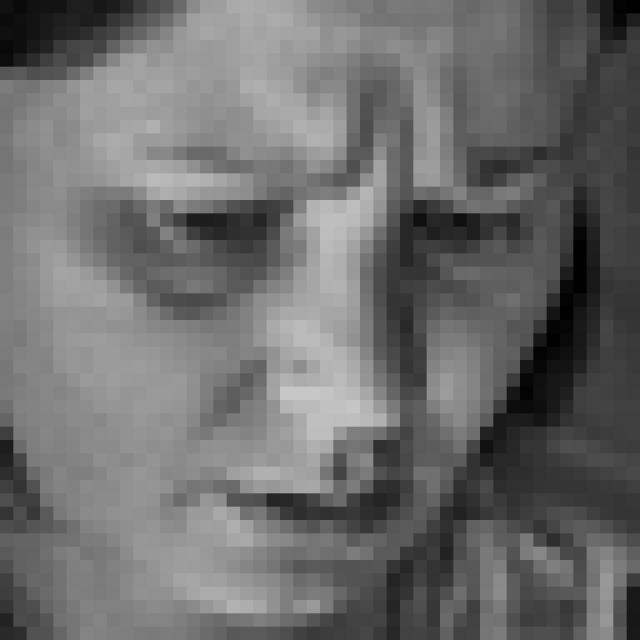sad: (106, 80, 575, 580)
